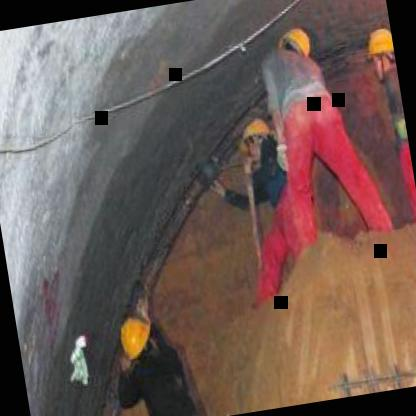helmet: (114, 310, 160, 366), (363, 23, 399, 88), (274, 23, 316, 74), (237, 116, 276, 160)
